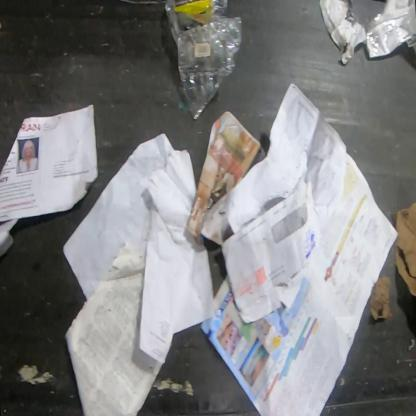cardboard: (394, 204, 416, 298), (369, 276, 389, 320)
rigid_plastic: (164, 0, 242, 121)
